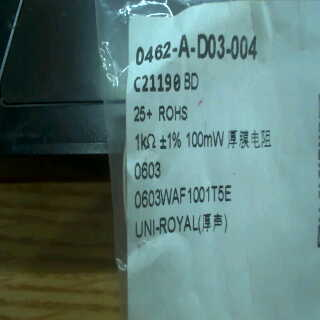1kR: (132, 122, 158, 154)
